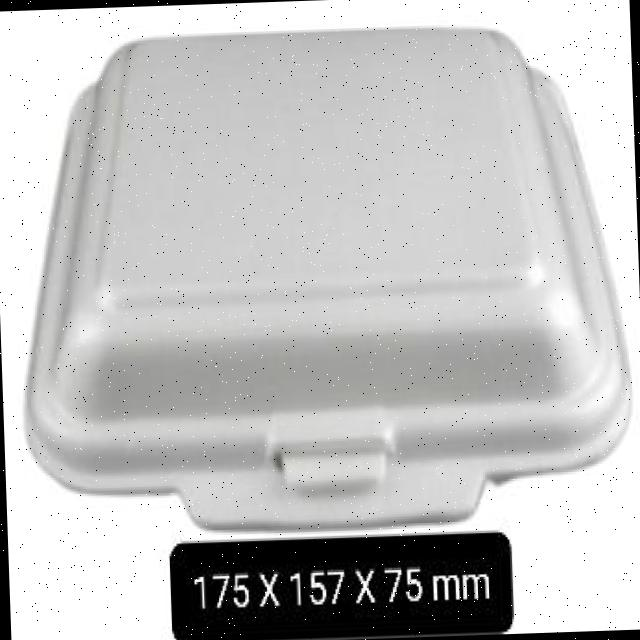styrofoam: (6, 14, 636, 542)
